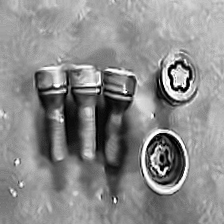defected: (5, 155, 28, 200), (93, 183, 128, 208), (148, 106, 161, 123)
